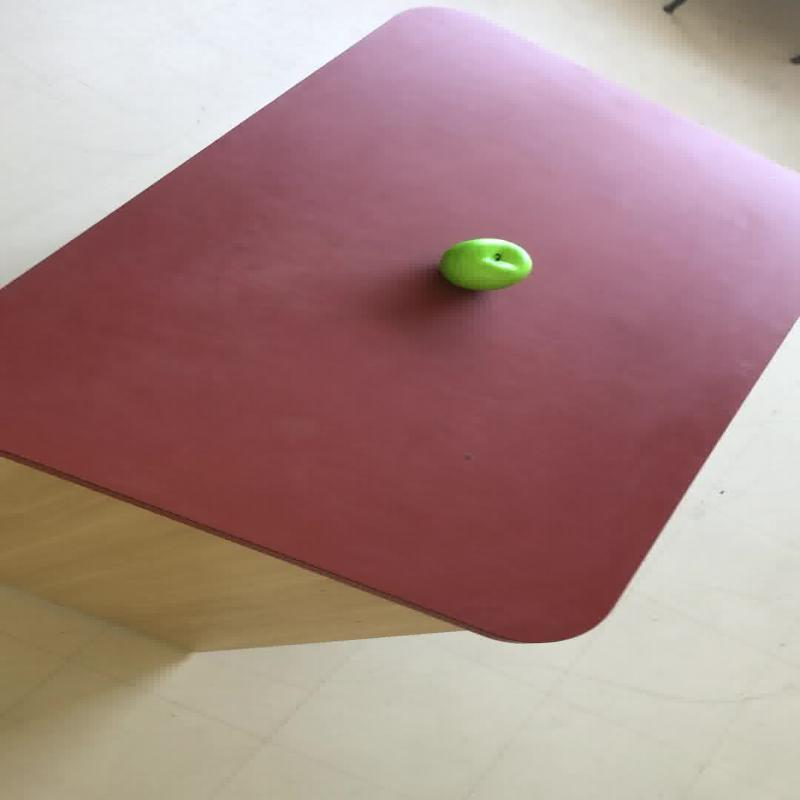apple: (436, 236, 532, 290)
